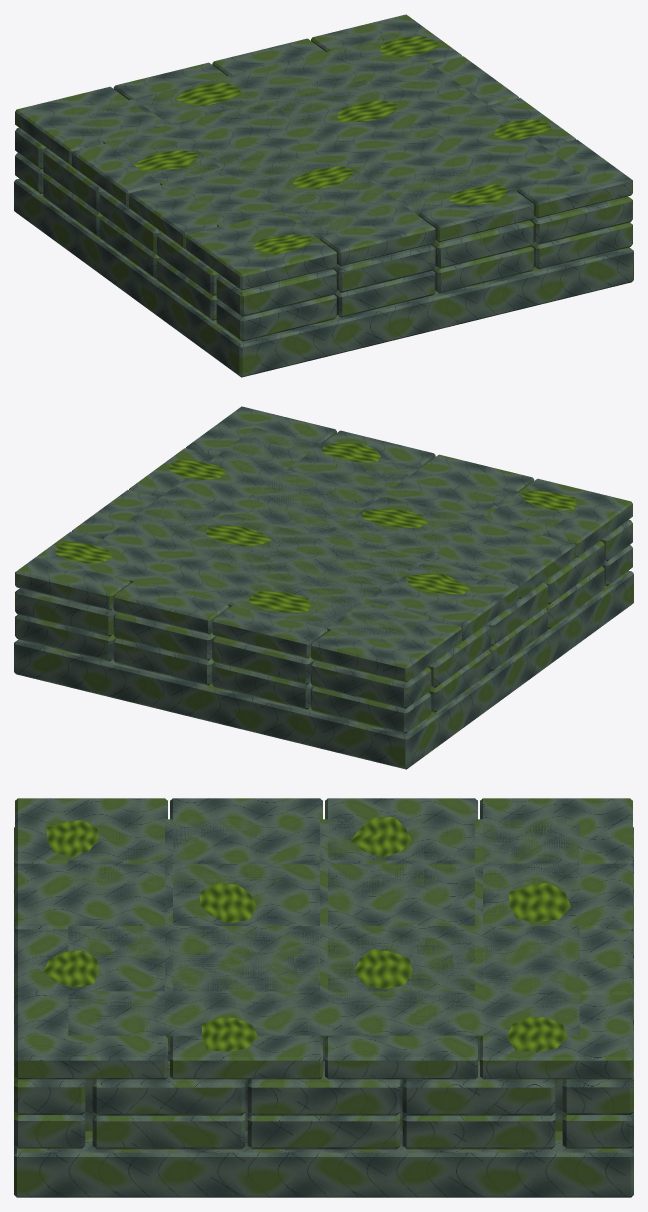
File: temple-plaza.glb
3 views of the same model, one above another, from view 1: azimuth 30°, elevation 25°; view 2: azimuth 150°, elevation 25°; view 3: azimuth 270°, elevation 25° (orthographic). The views are drawn at different scales.
Parts seen in each view (by area): view 1: temple-plaza_kit-stone, temple-plaza_kit-moss; view 2: temple-plaza_kit-stone, temple-plaza_kit-moss; view 3: temple-plaza_kit-stone, temple-plaza_kit-moss.
Part boxes in pixels (x1,y1,x2,y2): temple-plaza_kit-stone: [14, 14, 633, 377]; temple-plaza_kit-moss: [133, 36, 552, 254]; temple-plaza_kit-stone: [14, 406, 633, 769]; temple-plaza_kit-moss: [55, 443, 576, 612]; temple-plaza_kit-stone: [14, 798, 633, 1197]; temple-plaza_kit-moss: [43, 817, 570, 1051].
Bounding box in the file's own units: 4 × 1.01 × 4.
2 materials, 2 textured.
